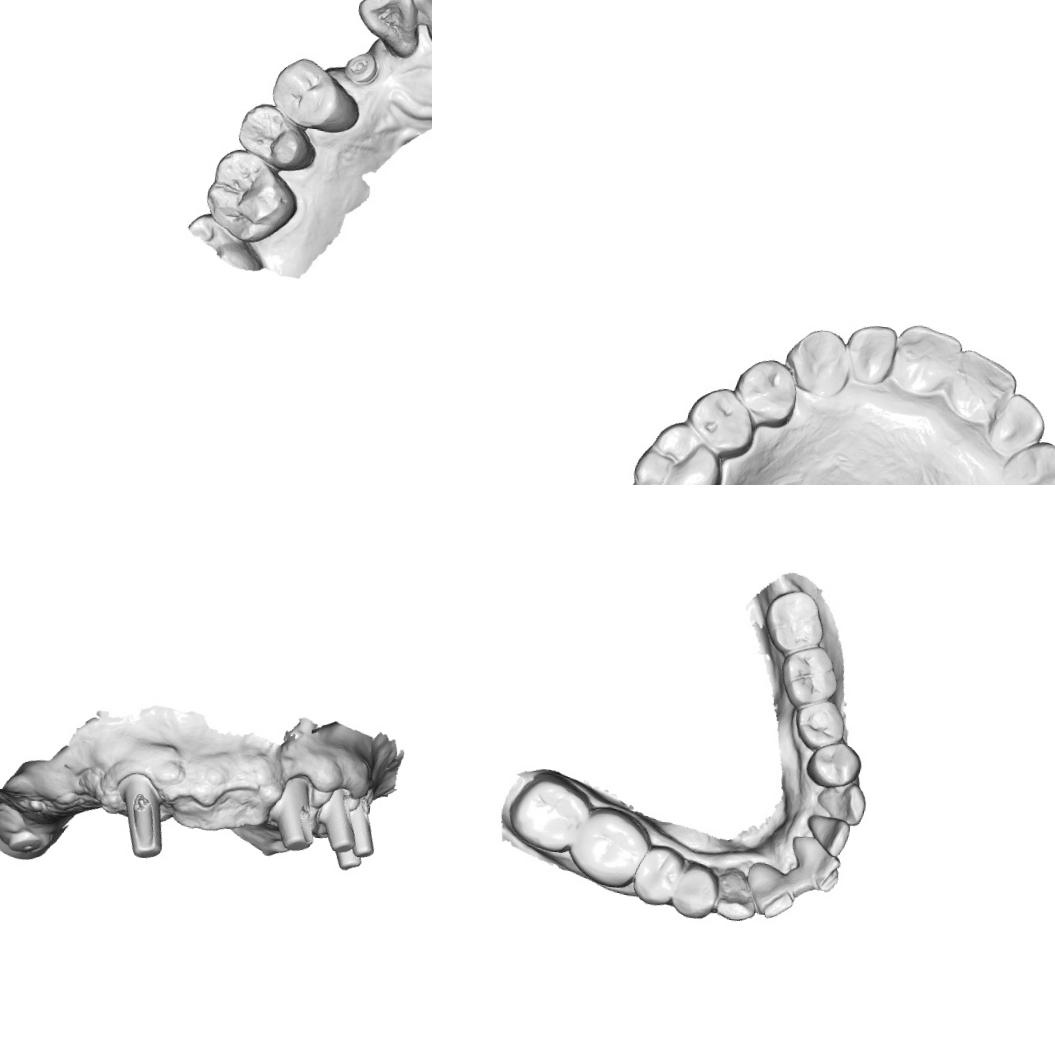abutment: (109, 770, 173, 863), (264, 768, 329, 855), (317, 784, 363, 856), (342, 796, 380, 860), (331, 844, 365, 874)
canine: (783, 324, 856, 398), (708, 864, 761, 924), (999, 434, 1055, 485), (812, 778, 870, 827)
implant: (4, 823, 46, 857)
implant_minus: (342, 49, 379, 86)
incisor: (945, 342, 1019, 421), (892, 322, 962, 395), (352, 0, 426, 59), (992, 389, 1050, 457), (740, 858, 800, 922), (785, 832, 844, 894), (844, 320, 897, 384), (801, 811, 853, 858), (396, 0, 432, 53)
molar: (200, 144, 304, 249), (564, 802, 655, 892), (500, 767, 592, 856), (626, 415, 728, 485), (760, 584, 828, 660), (776, 640, 843, 712)
premolar: (262, 50, 346, 138), (231, 97, 315, 175), (675, 382, 756, 456), (729, 351, 801, 431), (628, 841, 688, 909), (788, 695, 849, 754), (802, 736, 864, 794), (668, 858, 722, 922)
